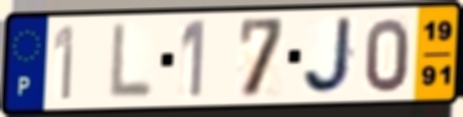0: (361, 13, 413, 95)
1: (175, 17, 207, 103), (51, 22, 77, 104)
7: (236, 16, 289, 101)
J: (300, 14, 357, 97)
L: (105, 20, 156, 103)
